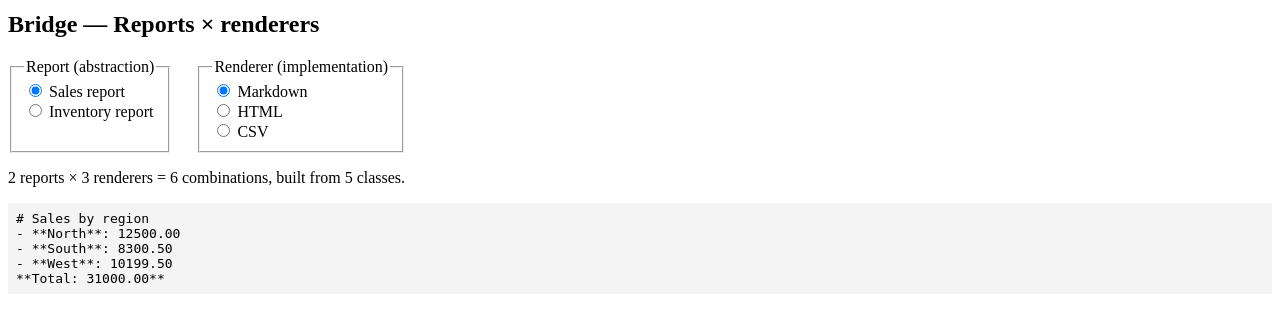
Test: <BridgeDemo /> › combines the chosen report and renderer independently
The width and height of the screenshot is (1280, 311).
What coordinates should you click on to do the following:
click the radio button labelled "HTML"
I would click on:
 (224, 111)
Its box is [217,104,230,117].
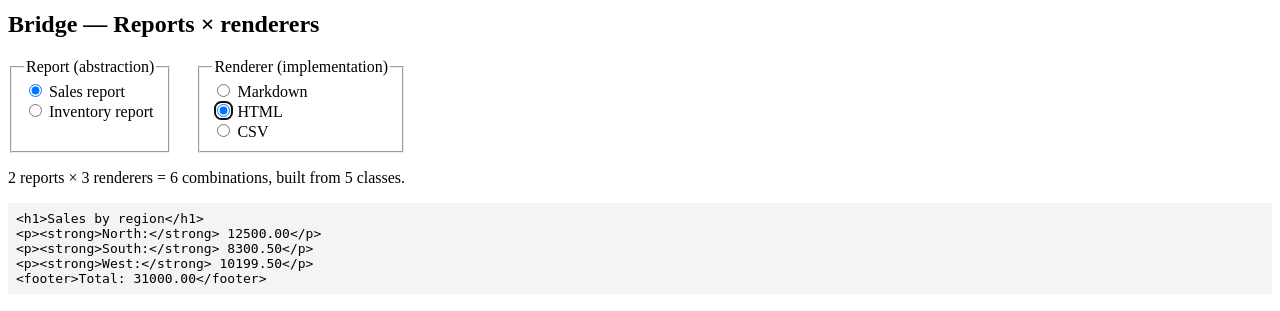
Result: the text "<h1>Sales by region</h1>" is shown at [16,211,321,286]
What coordinates should you click on to do the following:
click the radio button labelled "Inventory report"
I would click on:
 (36, 111)
Its box is [29,104,42,117].
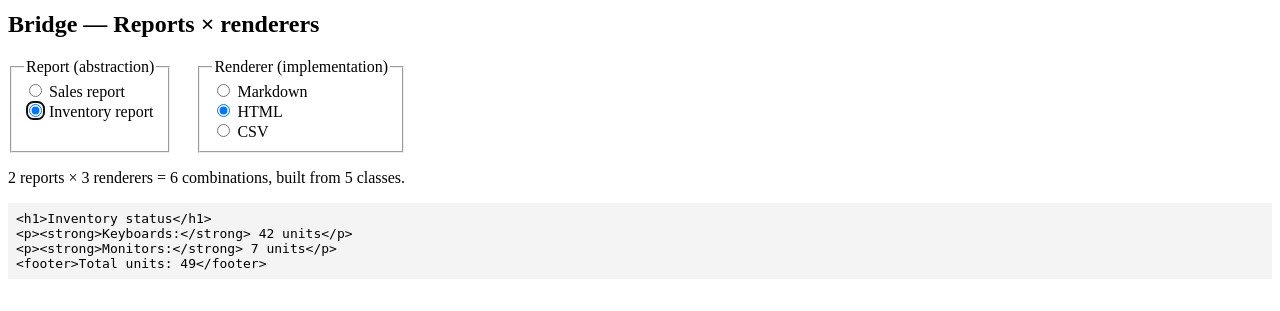
Result: the text "<h1>Inventory status</h1>" shows "<footer>Total units: 49</footer>" at [16,211,352,271]
What coordinates should you click on to do the following:
click the radio button labelled "CSV"
I would click on:
 (224, 131)
Its box is [217,124,230,137].
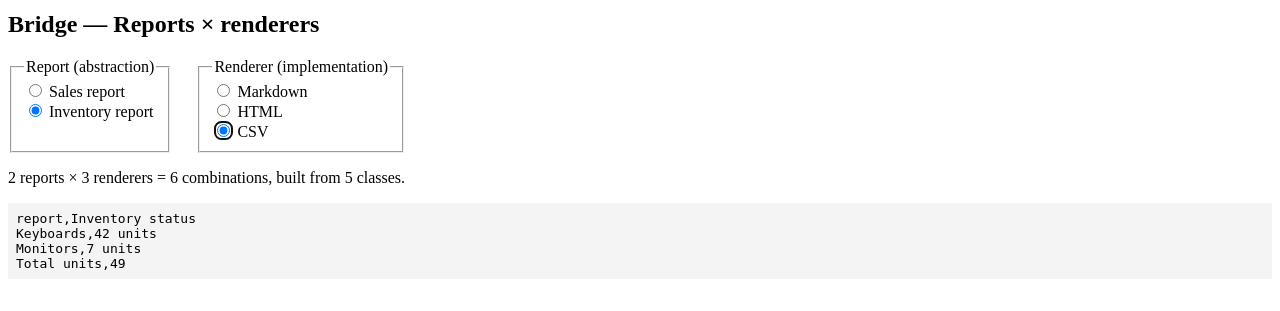
Result: the text "report,Inventory status" shows "Total units,49" at [16,211,196,271]
